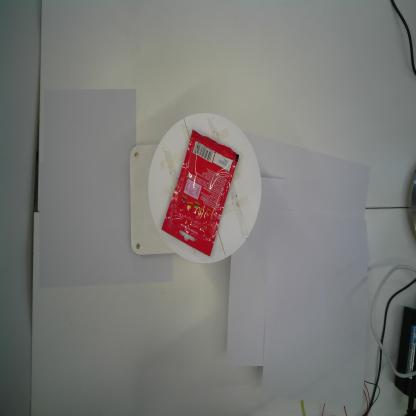Candy: (161, 127, 240, 259)
